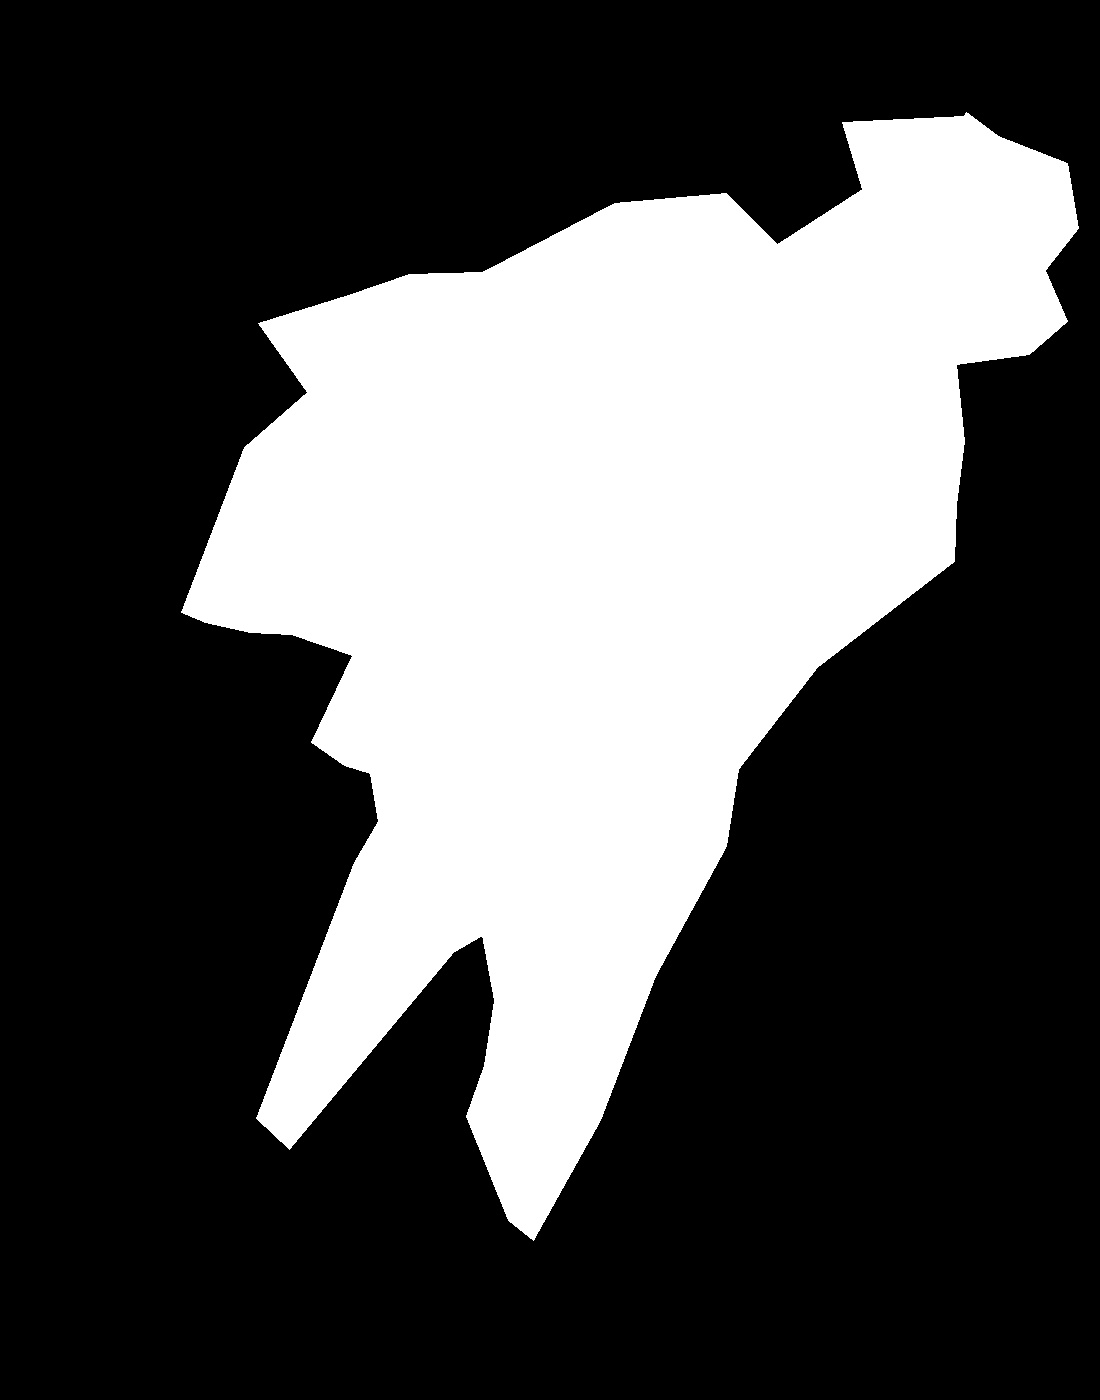fire: (274, 244, 957, 1189)
